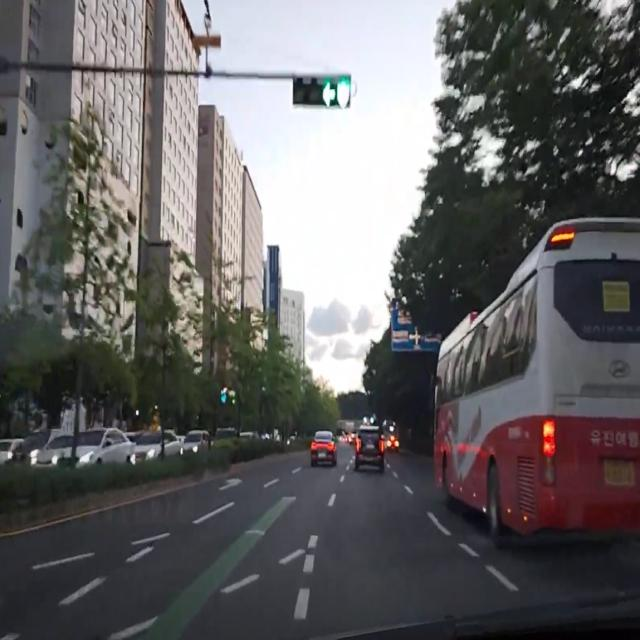Green Light: (337, 78, 351, 108)
